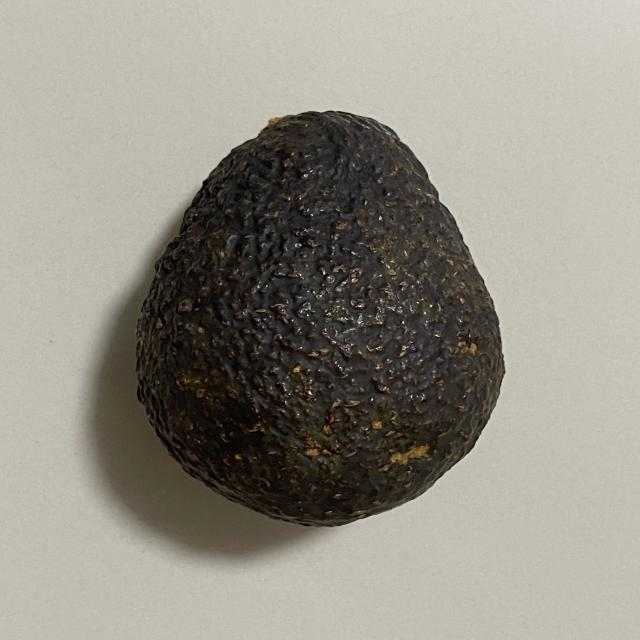Level2: (125, 104, 515, 534)
